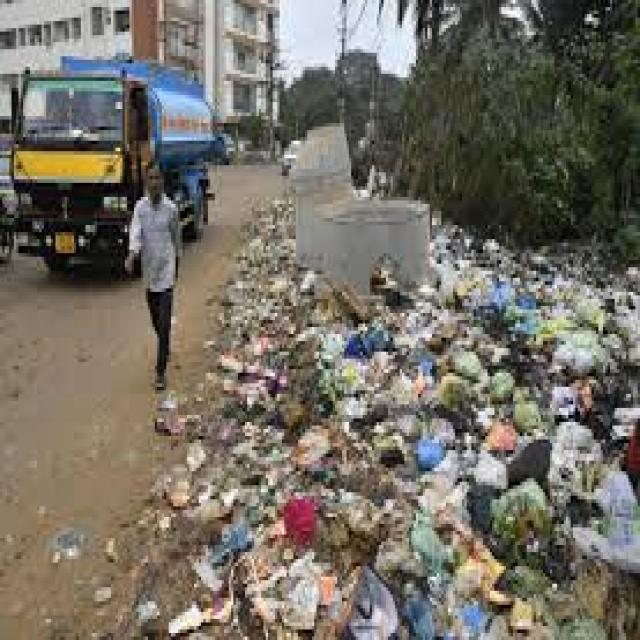garbage: (187, 206, 625, 636)
